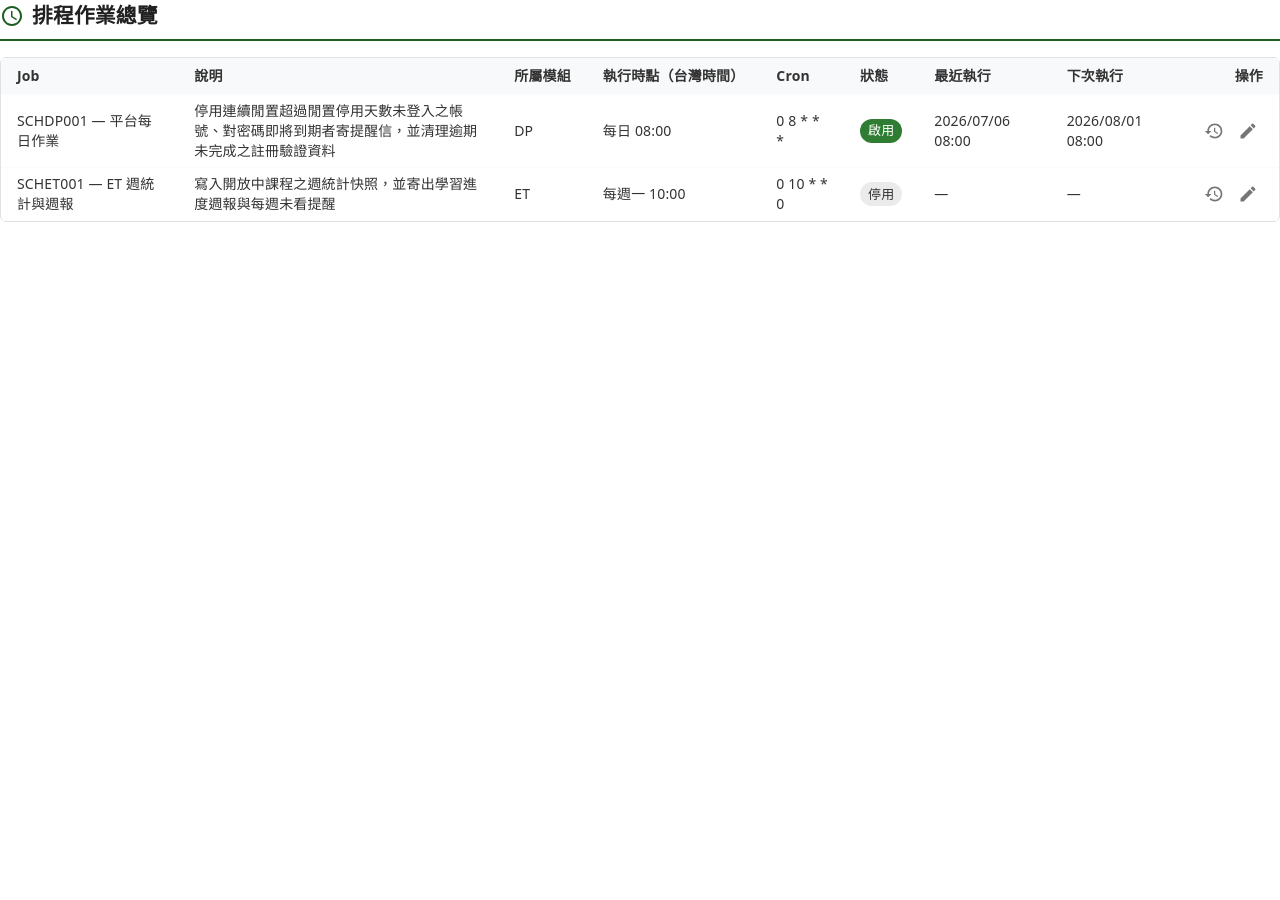
Test: SchedulePage 排程作業總覽（可編輯） › 無歷程之 job → 空狀態 SCHEDULE-001
Expected: the text "SCHET001 — ET 週統計與週報" is shown, [1, 168, 178, 221]
What coordinates should you click on to do the following:
click the button named "執行歷程" in the row of "SCHET001 — ET 週統計與週報"
I would click on:
 (1214, 194)
Its box is [1199, 179, 1229, 209].
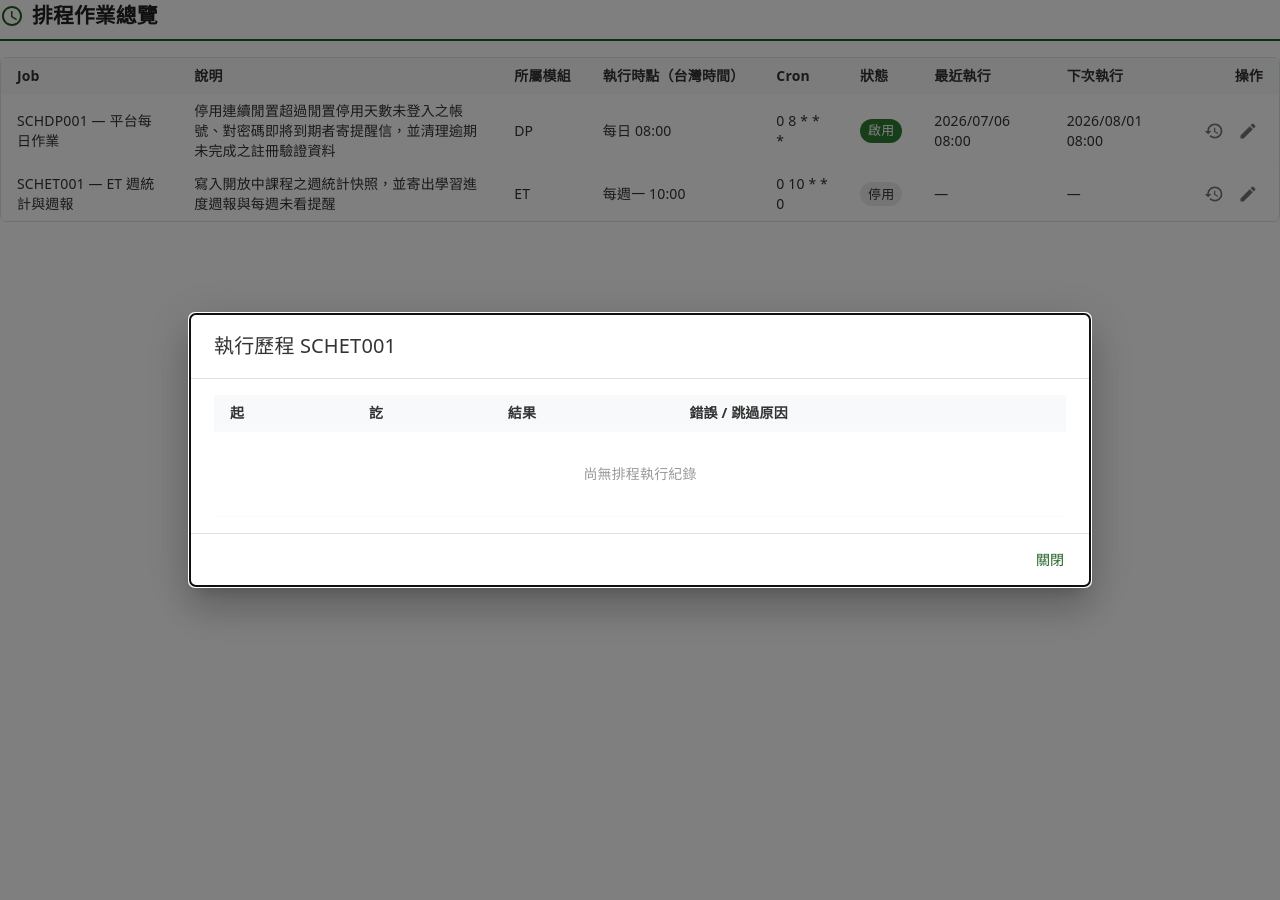
Now the text "尚無排程執行紀錄" is shown, box [583, 464, 697, 483]
